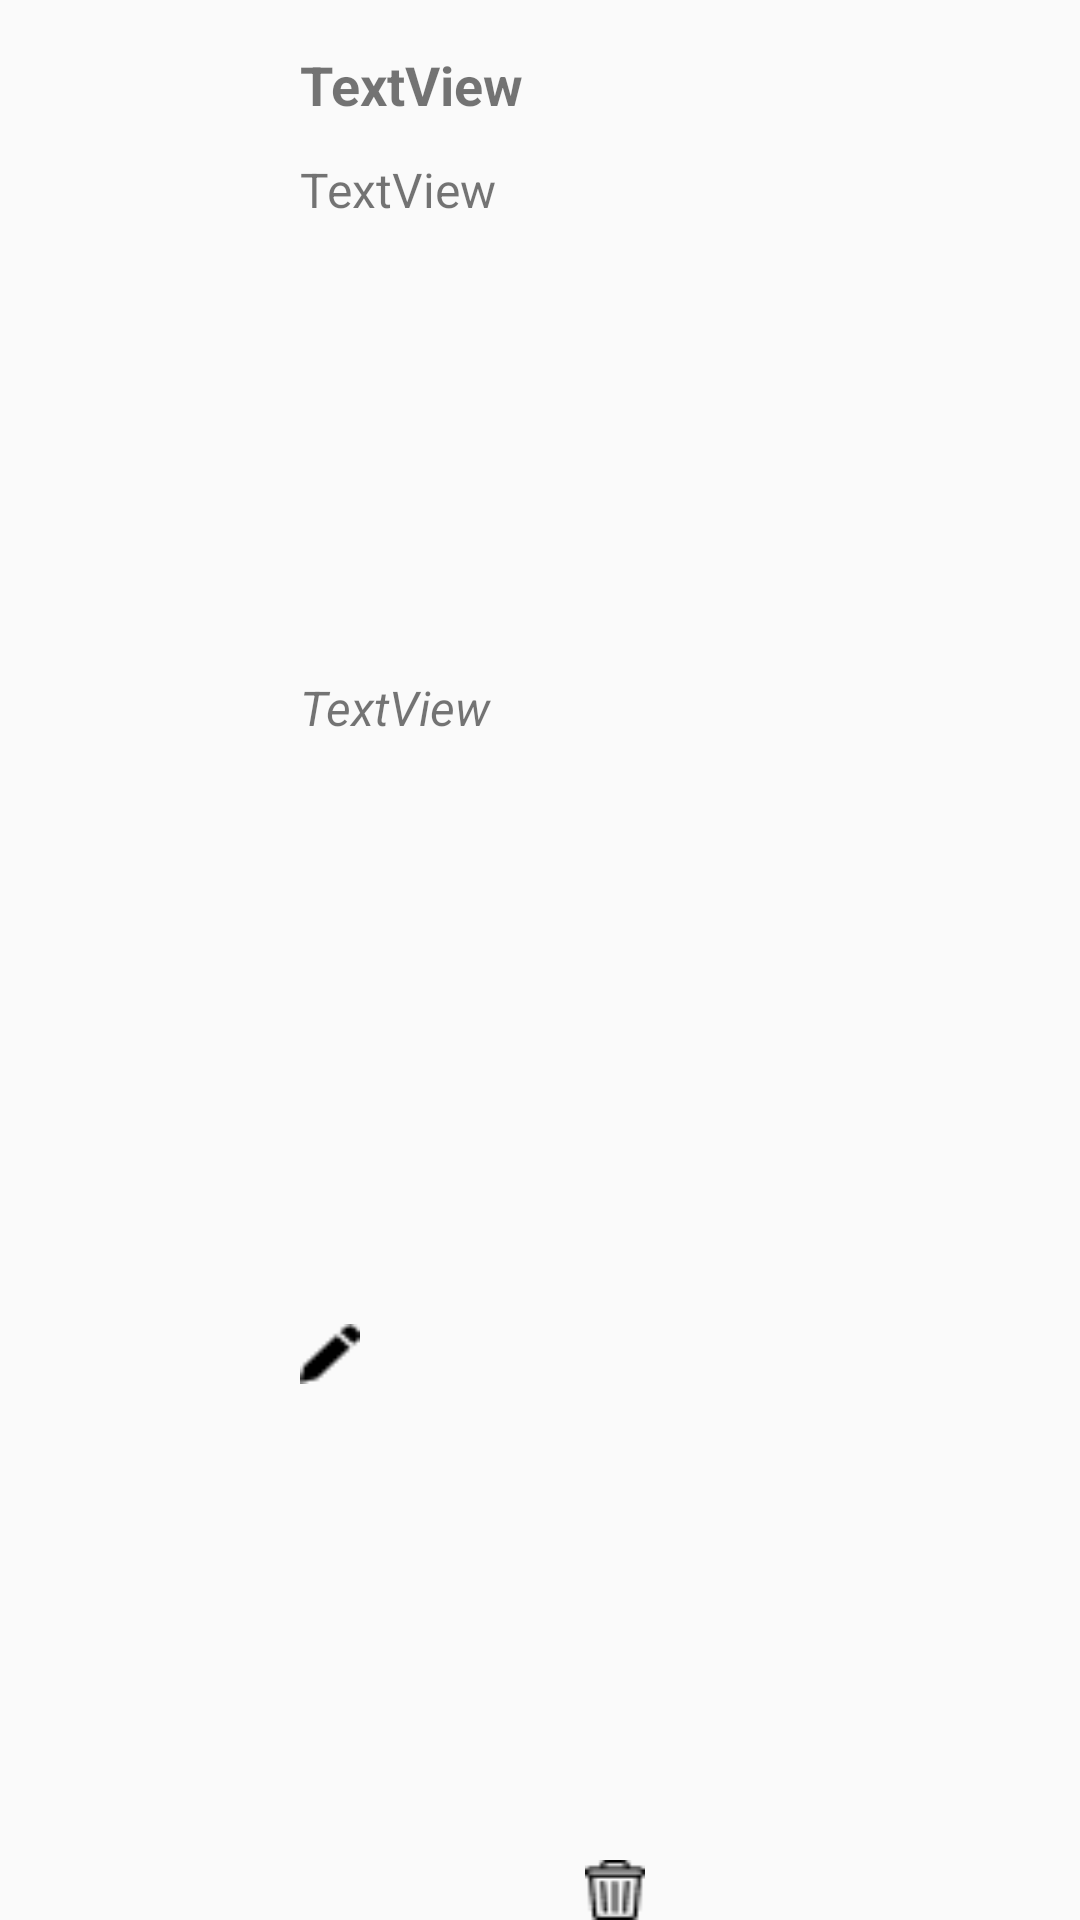

Named icons in this screenshot (1080w x 1920h) and their bounding boxes, bbox=(x1, y1, x2, y2):
garbage can: bbox=(585, 1860, 645, 1920)
pen: bbox=(300, 1324, 360, 1384)
